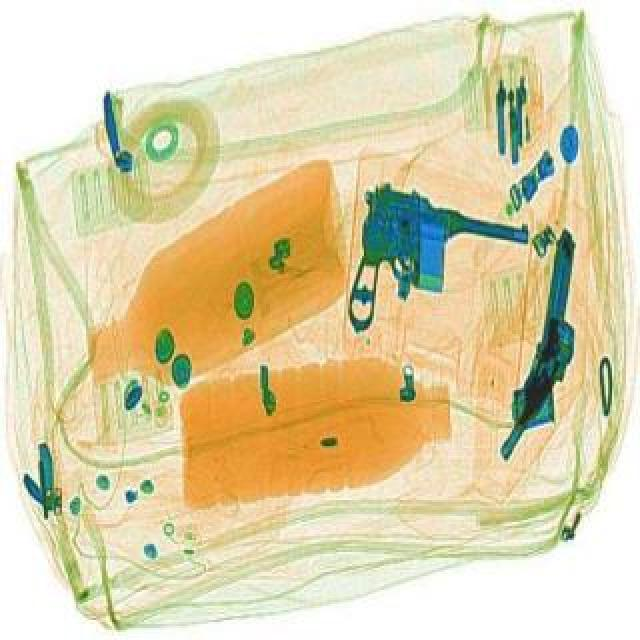gun: (340, 172, 536, 344), (492, 224, 604, 472)
